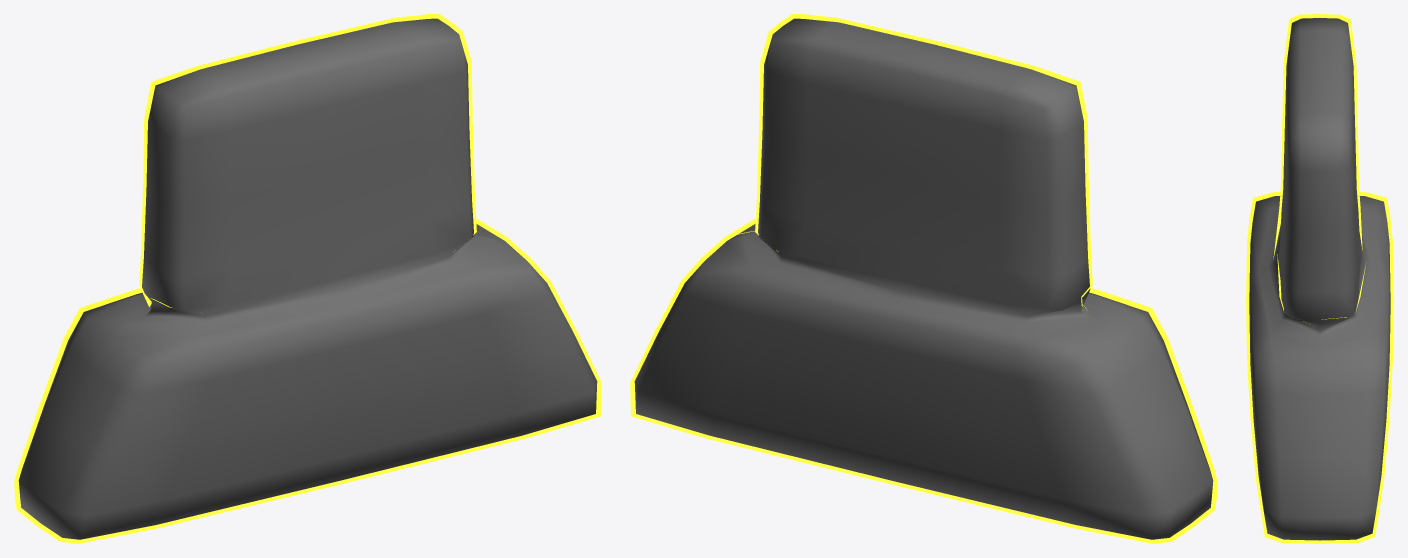
File: stone.glb
3 renders of one model, left to right at view 1: azimuth 30°, elevation 25°; view 2: azimuth 150°, elevation 25°; view 3: azimuth 270°, elevation 25°, orthographic. The views are drawn at different scales.
Visible parts, largest first — view 1: Stone, Stone_highlight; view 2: Stone, Stone_highlight; view 3: Stone, Stone_highlight.
Boxes of the visible parts, bbox=[...] form: Stone: bbox=[18, 18, 597, 539]; Stone_highlight: bbox=[14, 14, 601, 543]; Stone: bbox=[634, 18, 1213, 539]; Stone_highlight: bbox=[630, 14, 1217, 543]; Stone: bbox=[1249, 18, 1390, 540]; Stone_highlight: bbox=[1246, 14, 1393, 543].
Size of the model in its own units: 5.34 by 3.93 by 1.43.
